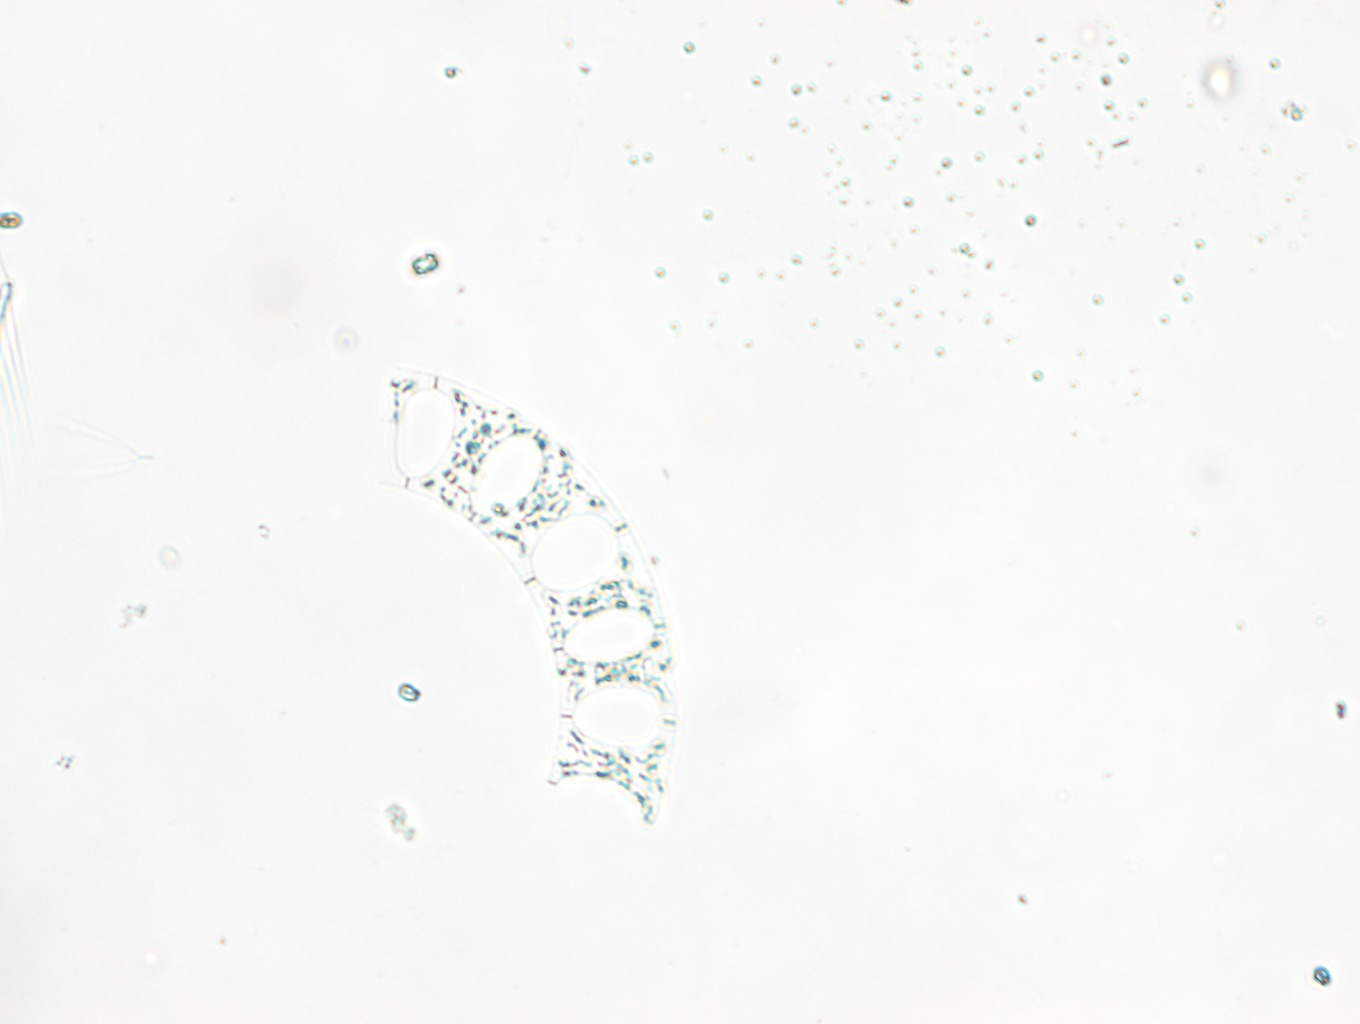eucampia: (380, 368, 676, 830)
